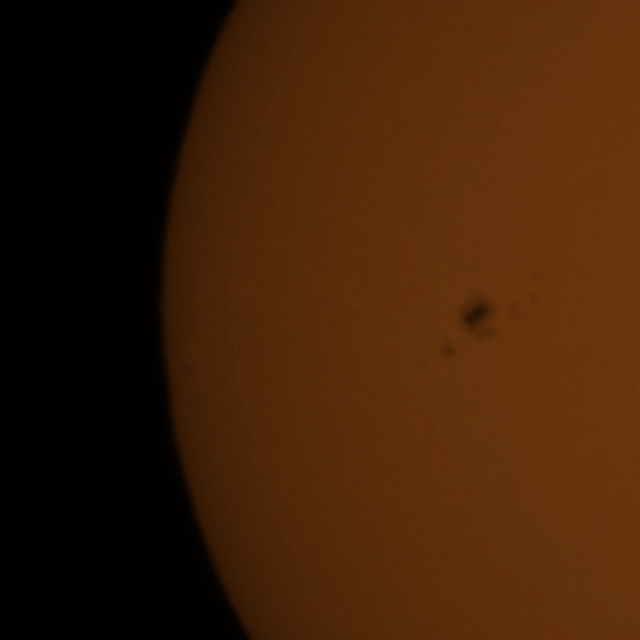sunspot: (461, 289, 509, 348), (443, 339, 466, 373)
